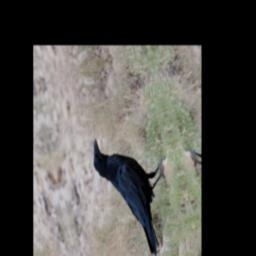Crow: (87, 116, 187, 256)
